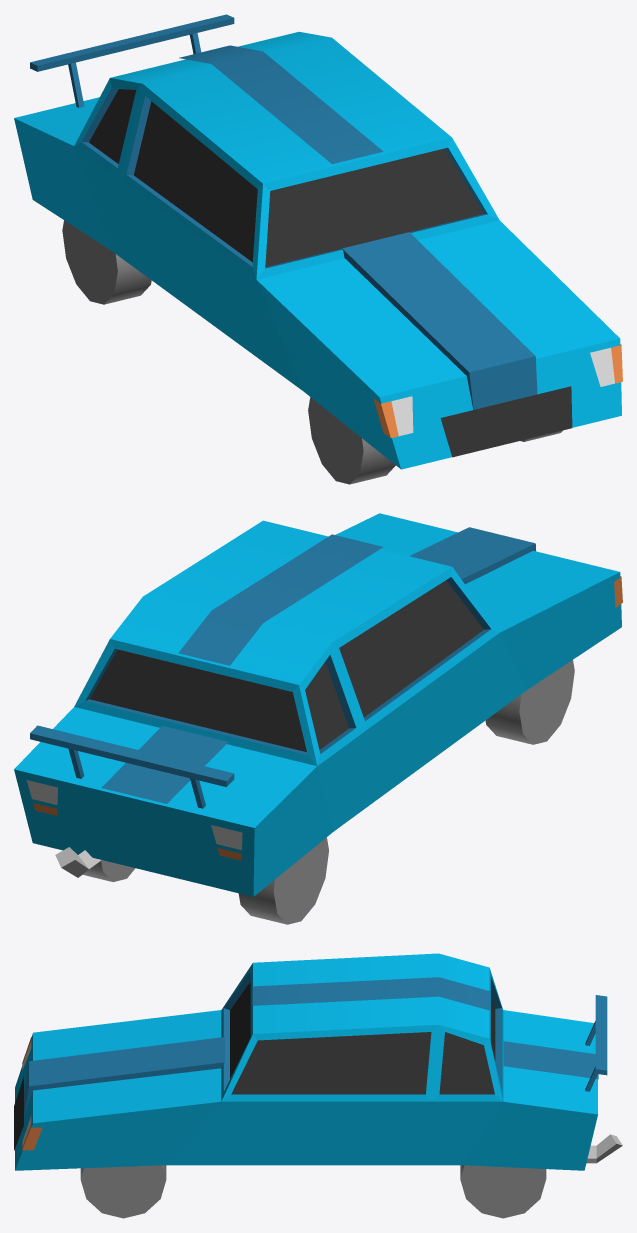
The model's file is sportscar_03.fbx.
3 views of the same model, one above another, from view 1: azimuth 30°, elevation 25°; view 2: azimuth 150°, elevation 25°; view 3: azimuth 270°, elevation 25° (orthographic). The views are drawn at different scales.
Parts seen in each view (by area): view 1: sportscar_03; view 2: sportscar_03; view 3: sportscar_03.
Boxes of the visible parts, x1,y1,x2,y2 form: sportscar_03: [14, 14, 622, 484]; sportscar_03: [14, 513, 622, 924]; sportscar_03: [14, 953, 622, 1218].
Bounding box in the file's own units: 1.6 × 1.56 × 4.49.
